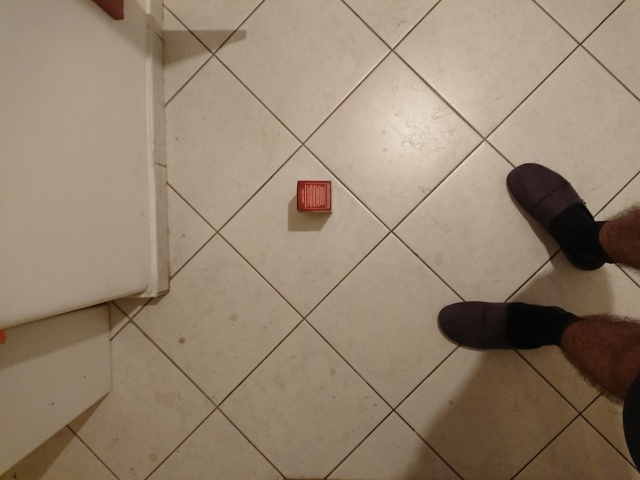Franck Apple Cinnamon Tea 60g: (294, 178, 335, 215)
